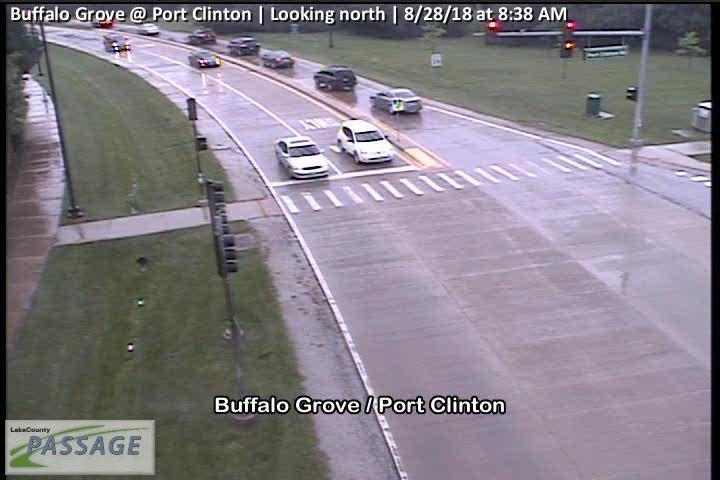Sedan: (335, 120, 394, 164), (274, 135, 329, 179), (370, 89, 423, 114), (313, 65, 356, 91), (261, 50, 294, 68), (228, 37, 259, 56), (188, 51, 221, 68), (188, 28, 216, 45), (103, 35, 130, 52), (135, 22, 160, 36), (93, 16, 113, 27)
